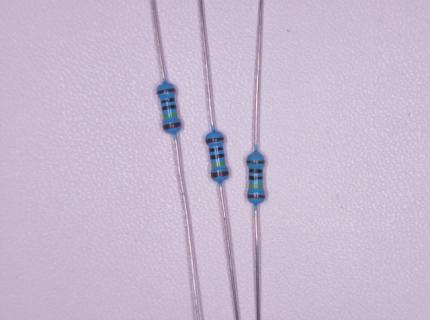Black band: (162, 104, 177, 111), (209, 146, 224, 153), (210, 153, 225, 160), (160, 98, 175, 104), (249, 168, 263, 174), (249, 176, 263, 181)
Brown band: (210, 169, 230, 179), (156, 87, 176, 95), (162, 122, 182, 130), (205, 136, 225, 144), (247, 193, 266, 199), (247, 160, 265, 165)
Yellow band: (163, 111, 177, 119), (211, 161, 226, 168), (249, 183, 263, 188)
